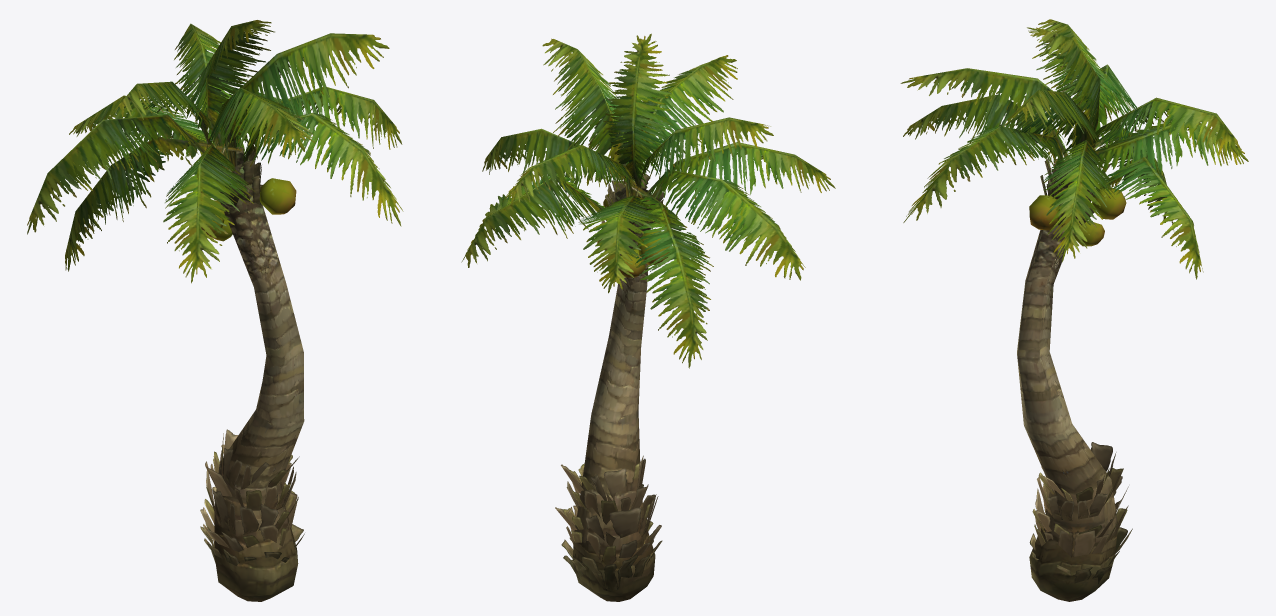
Rendered from PalmtreeA.FBX.
The picture shows the model from 3 angles, left to right: view 1: azimuth 30°, elevation 25°; view 2: azimuth 150°, elevation 25°; view 3: azimuth 270°, elevation 25°; orthographic projection. The views are drawn at different scales.
Visible parts, largest first — view 1: PalmtreeA; view 2: PalmtreeA; view 3: PalmtreeA.
Boxes of the visible parts, x1=… form: PalmtreeA: x1=27, y1=20, x2=403, y2=601; PalmtreeA: x1=461, y1=33, x2=835, y2=601; PalmtreeA: x1=900, y1=19, x2=1248, y2=601.
Bounding box in the file's own units: 542 × 808 × 490.
1 material, 1 textured.
